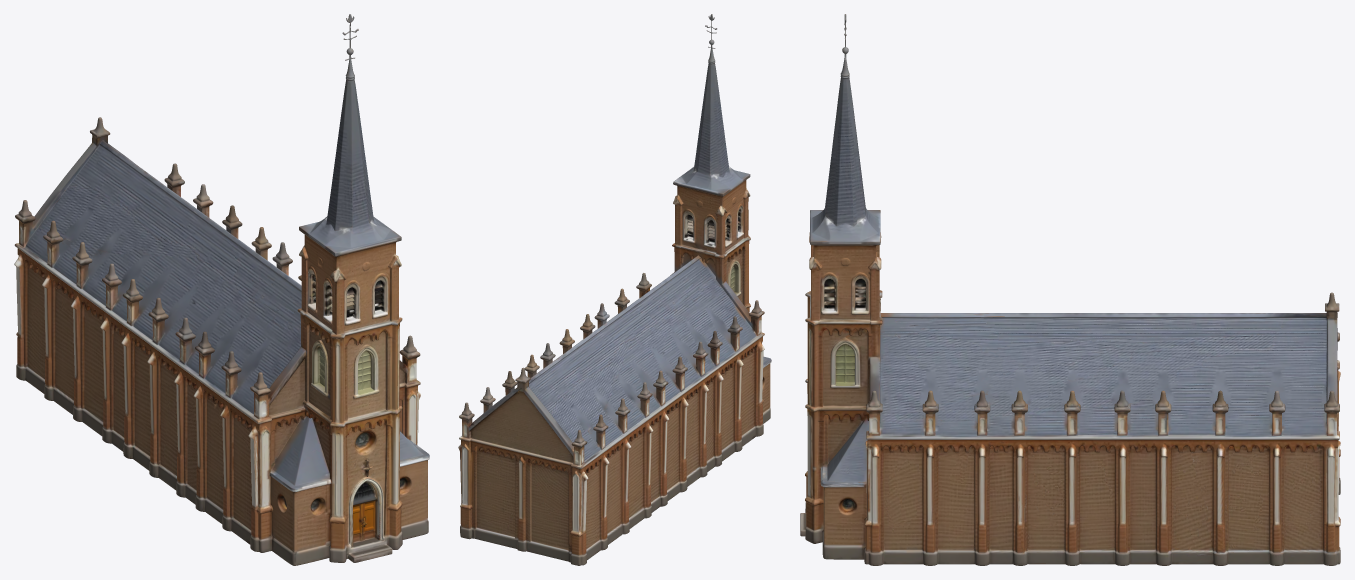
The model's file is church-day.glb.
3 renders of one model, left to right at view 1: azimuth 30°, elevation 25°; view 2: azimuth 150°, elevation 25°; view 3: azimuth 270°, elevation 25°, orthographic. The views are drawn at different scales.
Visible parts, largest first — view 1: node_0; view 2: node_0; view 3: node_0.
Boxes of the visible parts, x1,y1,x2,y2 form: node_0: (14,14,429,565); node_0: (458,14,771,565); node_0: (800,14,1340,565).
Size of the model in its own units: 0.2895 by 0.8493 by 0.8103.
Materials: 1 (1 with a texture image).
